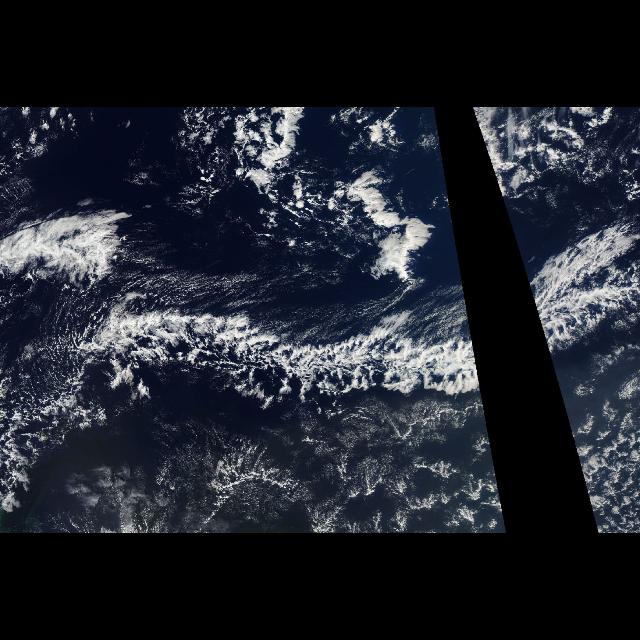Fish: (2, 206, 488, 430), (504, 206, 640, 402)
Gravel: (3, 305, 115, 457)
Sugar: (150, 402, 477, 498)
